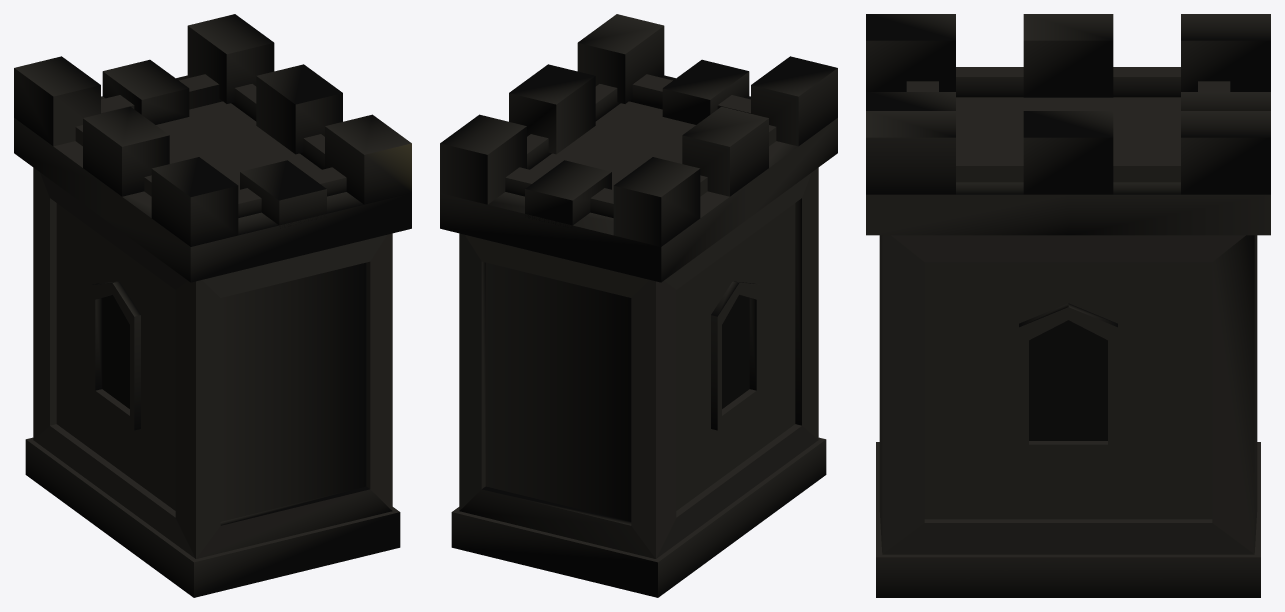
Rendered from corner_tower_stub.gltf.
The picture shows the model from 3 angles, left to right: view 1: azimuth 30°, elevation 25°; view 2: azimuth 150°, elevation 25°; view 3: azimuth 270°, elevation 25°; orthographic projection. The views are drawn at different scales.
Visible parts, largest first — view 1: CornerTowerStub; view 2: CornerTowerStub; view 3: CornerTowerStub.
Boxes of the visible parts, x1,y1,x2,y2 form: CornerTowerStub: [14, 14, 411, 597]; CornerTowerStub: [440, 14, 837, 597]; CornerTowerStub: [866, 14, 1270, 597].
Bounding box in the file's own units: 3.08 × 5.4 × 4.26.
Materials: 1 (1 with a texture image).
